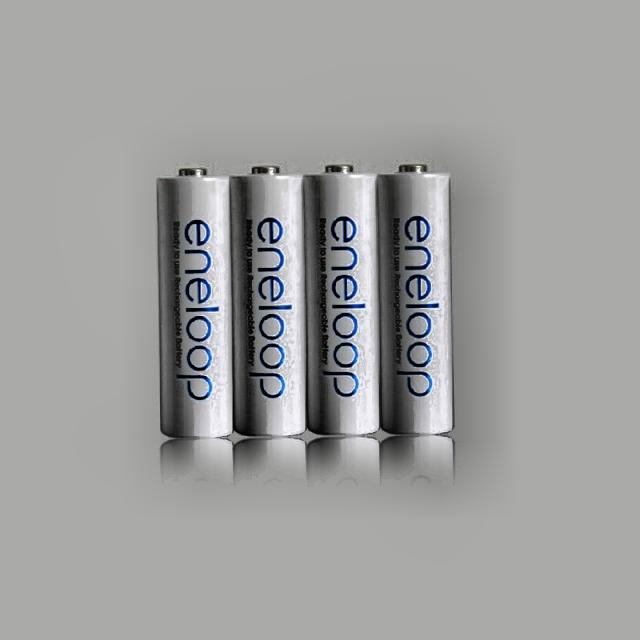Non-Valuable Waste - Batteries: (230, 166, 306, 435), (304, 165, 380, 434), (158, 169, 232, 438), (378, 165, 452, 434)
